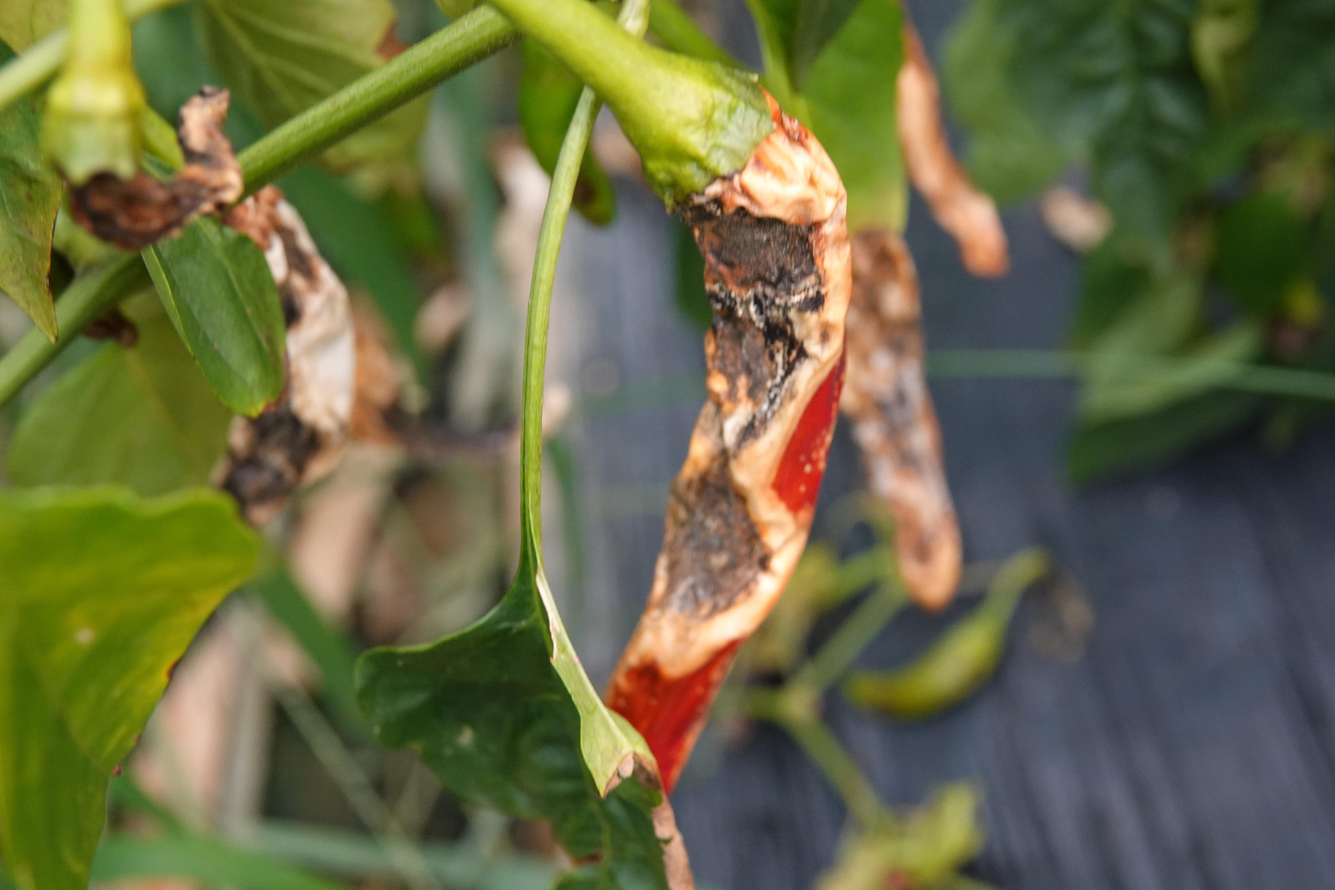Busuk Buah Antraknosa: (597, 82, 856, 801)
